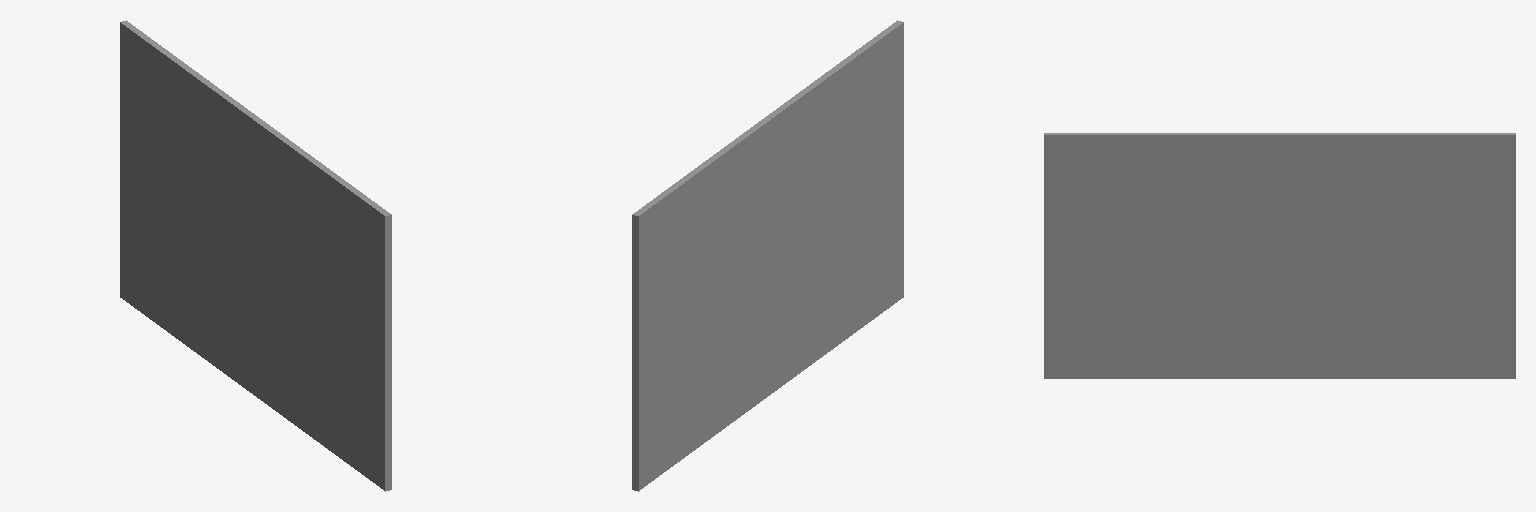
robot.urdf — slab4:
<robot name="slab4">
  <link name="slab4">

    <inertial>
      <origin xyz="0 0 0" />
      <mass value="0.1" />
      <inertia  ixx="0.00003375" ixy="0.0"  ixz="0.0"  iyy="0.00003375"  iyz="0.0"  izz="0.00003375" />
    </inertial>

    <visual>
      <origin xyz="0 0 0"/>
      <geometry>
        <box size="0.005 0.35 0.2" />
      </geometry>
      <material name="white">
        <color rgba="0.65 0.65 0.65 1.0"/>
      </material>
    </visual>

    <collision>
      <origin xyz="0 0 0"/>
      <geometry>
        <box size="0.005 0.35 0.2" />
      </geometry>
    </collision>
  </link>
</robot>

--- What the picture shows (computed from the rendered views, not written in the file) ---
The picture shows the robot from 3 angles, left to right: view 1: azimuth 30°, elevation 25°; view 2: azimuth 150°, elevation 25°; view 3: azimuth 270°, elevation 25°; orthographic projection.
Robot: slab4 — 1 links, 0 joints (none); root link slab4; default pose: every joint at zero.
Visible links, largest first — view 1: slab4; view 2: slab4; view 3: slab4.
Boxes of the visible links, <box> form: slab4: <box>120,20,391,491</box>; slab4: <box>632,20,903,491</box>; slab4: <box>1044,133,1515,378</box>.
Bounding box of the posed robot: 0.005 × 0.35 × 0.2 m (x, y, z).
Geometry: primitives only (box / cylinder / sphere), no mesh files.